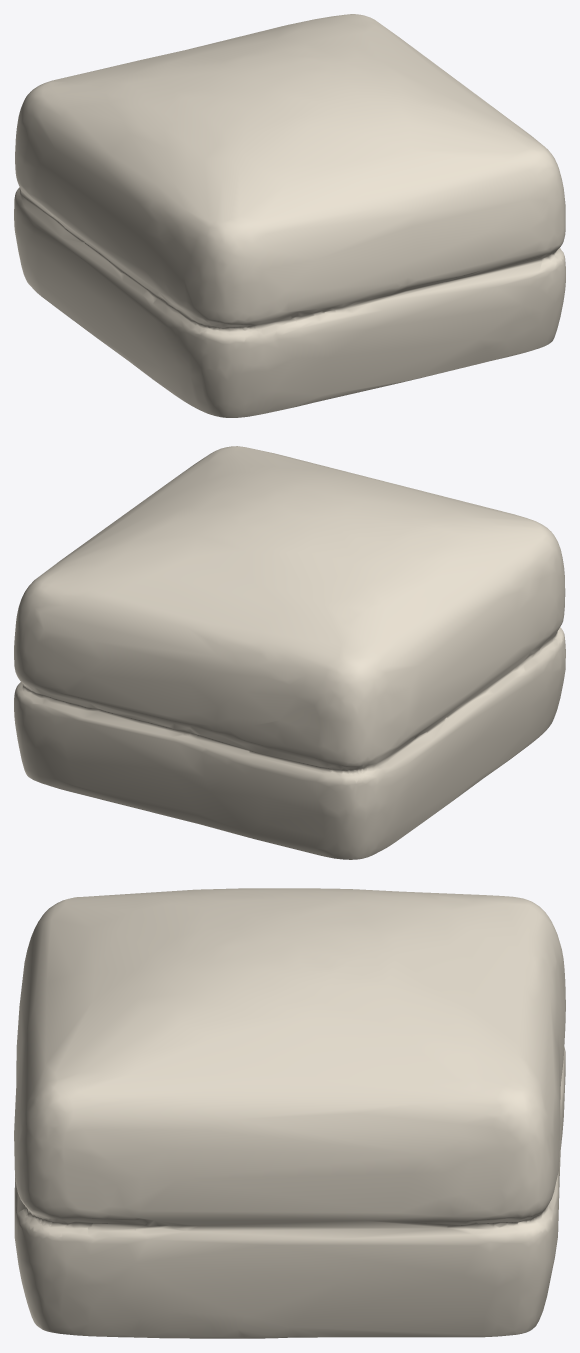
The model's file is living_pouf.glb.
The picture shows the model from 3 angles, top to bottom: view 1: azimuth 30°, elevation 25°; view 2: azimuth 150°, elevation 25°; view 3: azimuth 270°, elevation 25°; orthographic projection. The views are drawn at different scales.
Size of the model in its own units: 0.1577 by 0.0932 by 0.1624.
